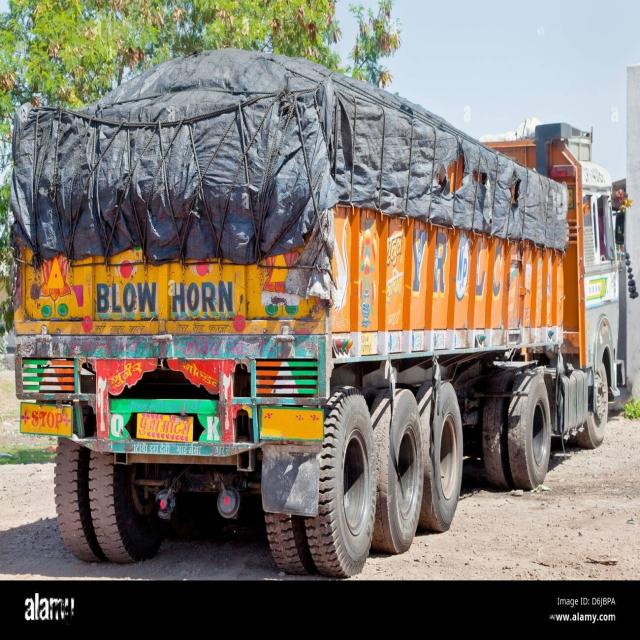truck: (11, 49, 628, 576)
